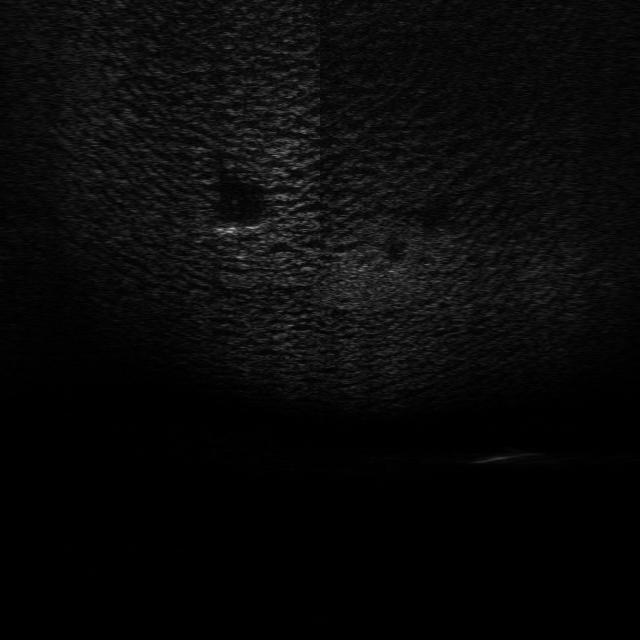plane: (210, 218, 274, 245)
